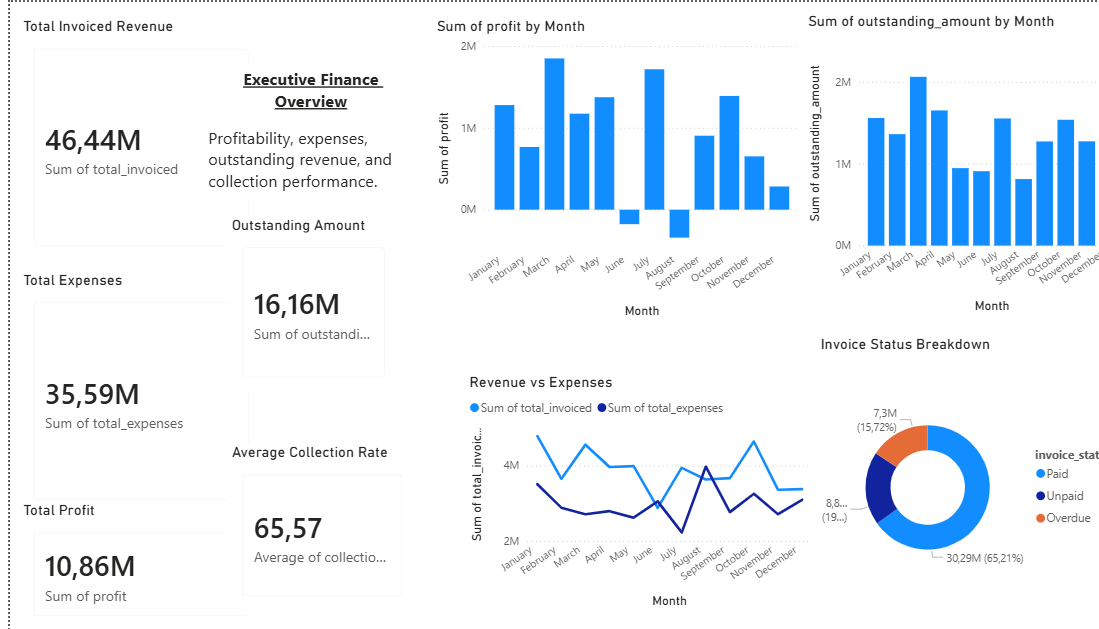

This screenshot's page, from the dashboard's own definition file:
{"tool":"powerbi","page":{"name":"Executive Overview","canvas":[1280,720],"ordinal":0},"visuals":[{"type":"cardVisual","title":"Total Invoiced Revenue","fields":{"Data":["Sum(monthly_finance_kpis.total_invoiced)"]},"box":[10.1,17.8,280,280],"z":0},{"type":"cardVisual","title":"Total Expenses","fields":{"Data":["Sum(monthly_finance_kpis.total_expenses)"]},"box":[10.1,307.8,280,280],"z":1000},{"type":"cardVisual","title":"Total Profit","fields":{"Data":["Sum(monthly_finance_kpis.profit)"]},"box":[10,570,280,150],"z":2000},{"type":"cardVisual","title":"Outstanding Amount","fields":{"Data":["Sum(monthly_finance_kpis.outstanding_amount)"]},"box":[248.2,244.7,197.7,202.7],"z":3000},{"type":"cardVisual","title":"Average Collection Rate","fields":{"Data":["Avg(monthly_finance_kpis.collection_rate)"]},"box":[248.2,505,217.9,192.7],"z":4000},{"type":"clusteredColumnChart","fields":{"Category":["monthly_finance_kpis.month.Variation.Date Hierarchy.Month"],"Y":["Sum(monthly_finance_kpis.profit)"]},"box":[483.3,17.8,424.6,349],"z":5000},{"type":"lineChart","title":"Revenue vs Expenses","fields":{"Category":["monthly_finance_kpis.month.Variation.Date Hierarchy.Month"],"Y":["Sum(monthly_finance_kpis.total_invoiced)","Sum(monthly_finance_kpis.total_expenses)"]},"box":[519.6,424.3,401.4,273.3],"z":6000},{"type":"clusteredColumnChart","fields":{"Category":["monthly_finance_kpis.month.Variation.Date Hierarchy.Month"],"Y":["Sum(monthly_finance_kpis.outstanding_amount)"]},"box":[907.7,12,372.2,349],"z":7000},{"type":"donutChart","title":"Invoice Status Breakdown","fields":{"Category":["invoice_status_summary.invoice_status"],"Y":["Sum(invoice_status_summary.total_invoiced)"]},"box":[920.8,380.2,359.1,330.8],"z":8000},{"type":"textbox","box":[221,70.2,245.1,154.3],"z":9000}]}

Visuals, with their boxes in screenshot pixels (x1, y1, x2, y2), scaled from the page's 1280x720 canvas onto the 1099x629 screenshot:
"Total Invoiced Revenue" cardVisual: <box>9,16,249,260</box>
"Total Expenses" cardVisual: <box>9,269,249,514</box>
"Total Profit" cardVisual: <box>9,498,249,628</box>
"Outstanding Amount" cardVisual: <box>213,214,383,391</box>
"Average Collection Rate" cardVisual: <box>213,441,400,610</box>
clusteredColumnChart - monthly_finance_kpis.month.Variation.Date Hierarchy.Month x Sum(monthly_finance_kpis.profit): <box>415,16,780,320</box>
"Revenue vs Expenses" lineChart: <box>446,371,791,609</box>
clusteredColumnChart - monthly_finance_kpis.month.Variation.Date Hierarchy.Month x Sum(monthly_finance_kpis.outstanding_amount): <box>779,10,1098,315</box>
"Invoice Status Breakdown" donutChart: <box>791,332,1098,621</box>
textbox: <box>190,61,400,196</box>
